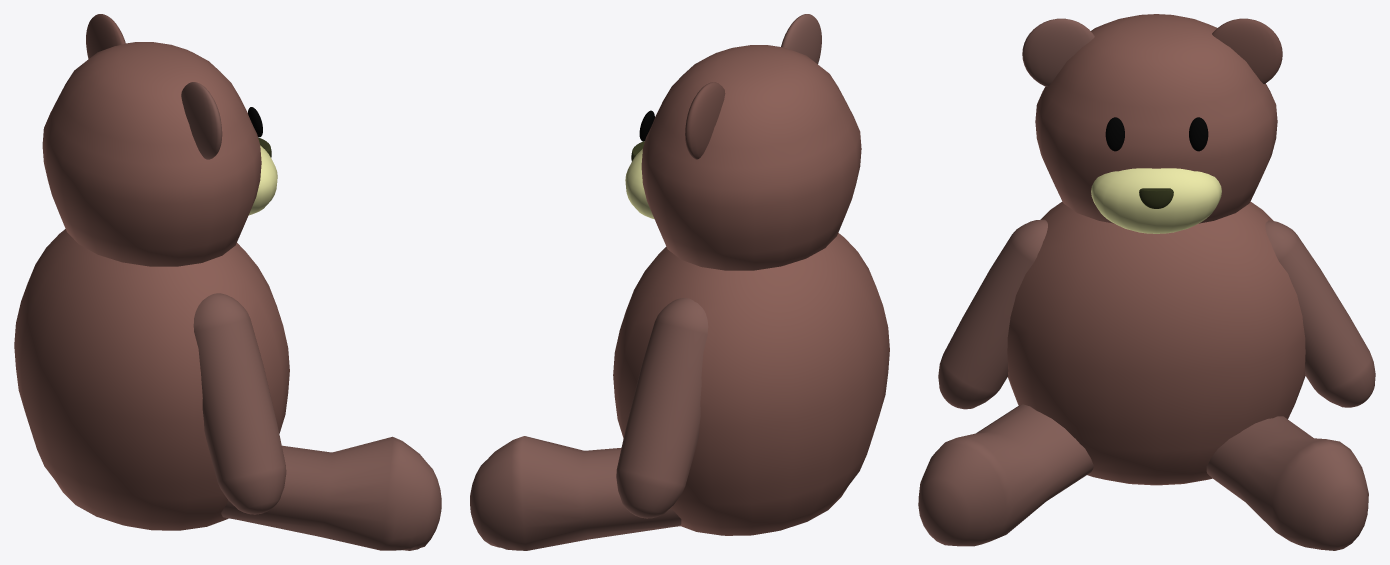
File: Bear.fbx
3 views of the same model, side by side, from view 1: azimuth 30°, elevation 25°; view 2: azimuth 150°, elevation 25°; view 3: azimuth 270°, elevation 25° (orthographic). The views are drawn at different scales.
Visible parts, largest first — view 1: polySurface2, polySurface1, polySurface7, polySurface10, polySurface12, polySurface11, polySurface3; view 2: polySurface2, polySurface1, polySurface8, polySurface9, polySurface11, polySurface12, polySurface3; view 3: polySurface2, polySurface1, polySurface7, polySurface8, polySurface10, polySurface9, polySurface3, polySurface12, polySurface11, polySurface4.
Part boxes in pixels (x1,y1,x2,y2): polySurface2: (14, 229, 289, 530); polySurface1: (42, 42, 261, 266); polySurface7: (221, 436, 441, 550); polySurface10: (193, 293, 286, 514); polySurface12: (181, 82, 222, 159); polySurface11: (86, 14, 125, 58); polySurface3: (248, 145, 277, 215); polySurface2: (613, 233, 889, 535); polySurface1: (641, 45, 861, 270); polySurface8: (470, 436, 681, 550); polySurface9: (616, 298, 708, 518); polySurface11: (685, 82, 725, 159); polySurface12: (781, 14, 821, 63); polySurface3: (625, 149, 654, 219); polySurface2: (1007, 201, 1305, 485); polySurface1: (1035, 14, 1277, 223); polySurface7: (918, 404, 1093, 546); polySurface8: (1206, 416, 1368, 550); polySurface10: (938, 219, 1047, 409); polySurface9: (1265, 220, 1375, 407); polySurface3: (1091, 168, 1221, 233); polySurface12: (1022, 18, 1094, 86); polySurface11: (1212, 18, 1282, 83); polySurface4: (1139, 188, 1173, 208).
Size of the model in its own units: 2.58 by 3.82 by 3.49.
